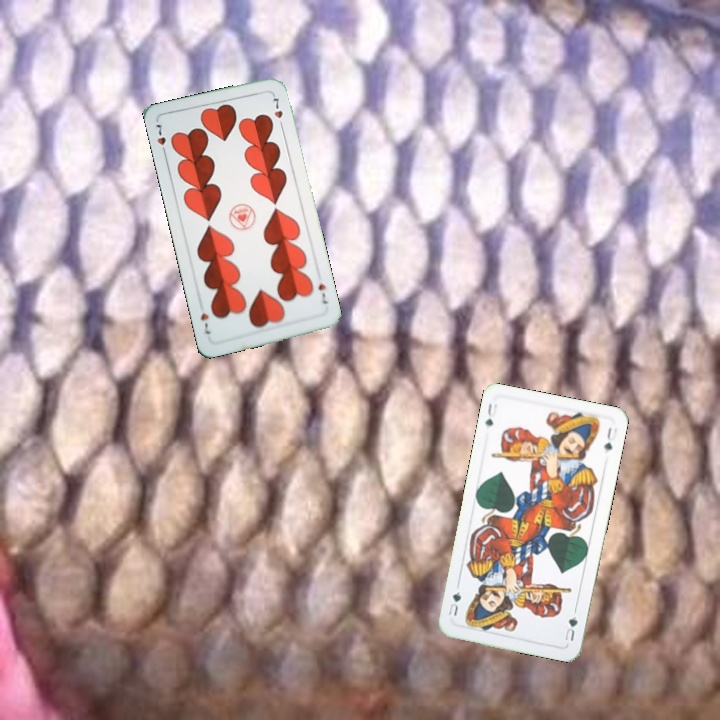GU: (561, 606, 580, 643), (481, 399, 500, 429)
H7: (152, 120, 169, 158), (314, 280, 331, 306)
